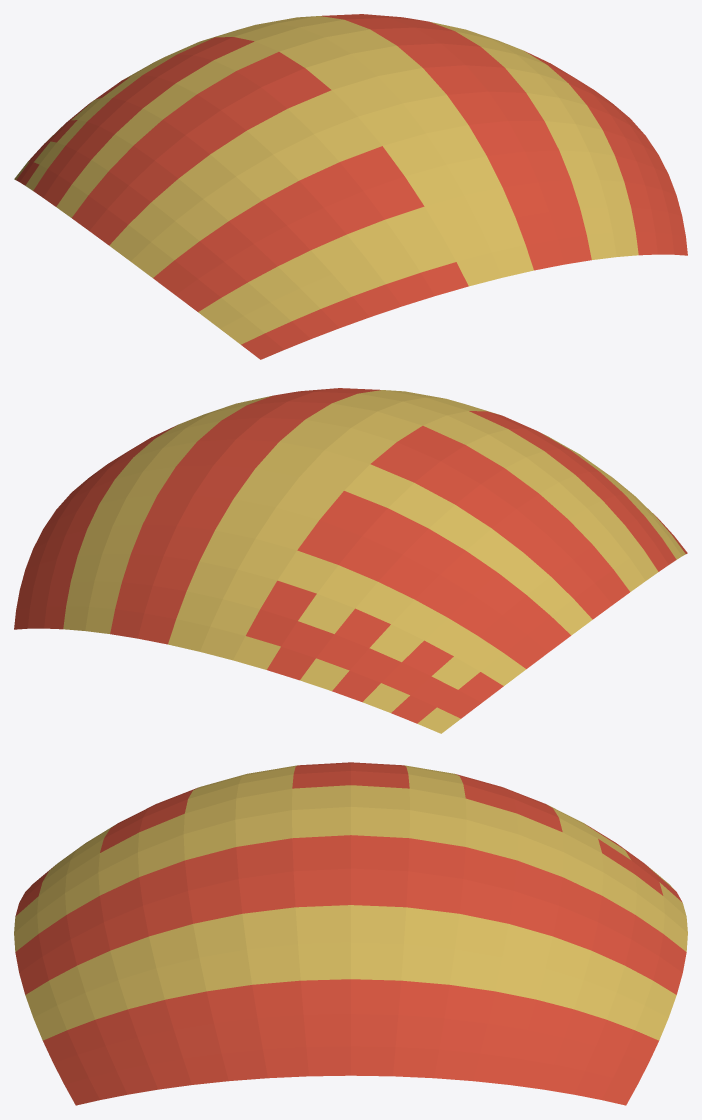
The model's file is CubePart.fbx.
The picture shows the model from 3 angles, top to bottom: view 1: azimuth 30°, elevation 25°; view 2: azimuth 150°, elevation 25°; view 3: azimuth 270°, elevation 25°; orthographic projection. The views are drawn at different scales.
Visible parts, largest first — view 1: Cube; view 2: Cube; view 3: Cube.
Part boxes in pixels (x1=…): Cube: x1=14, y1=14, x2=687, y2=359; Cube: x1=14, y1=388, x2=687, y2=733; Cube: x1=14, y1=762, x2=687, y2=1105.
Bounding box in the file's own units: 181 × 54.23 × 181.
